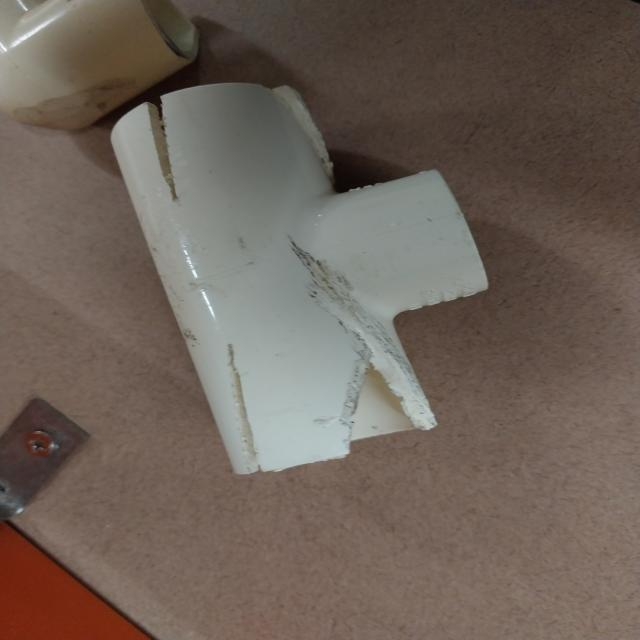Defective: (220, 328, 278, 475), (359, 349, 438, 442), (139, 101, 200, 206), (23, 0, 80, 20)
T Joint: (103, 68, 488, 488)
